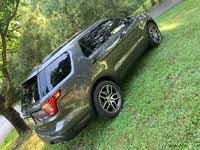Ford Explorer: (17, 8, 164, 148)
